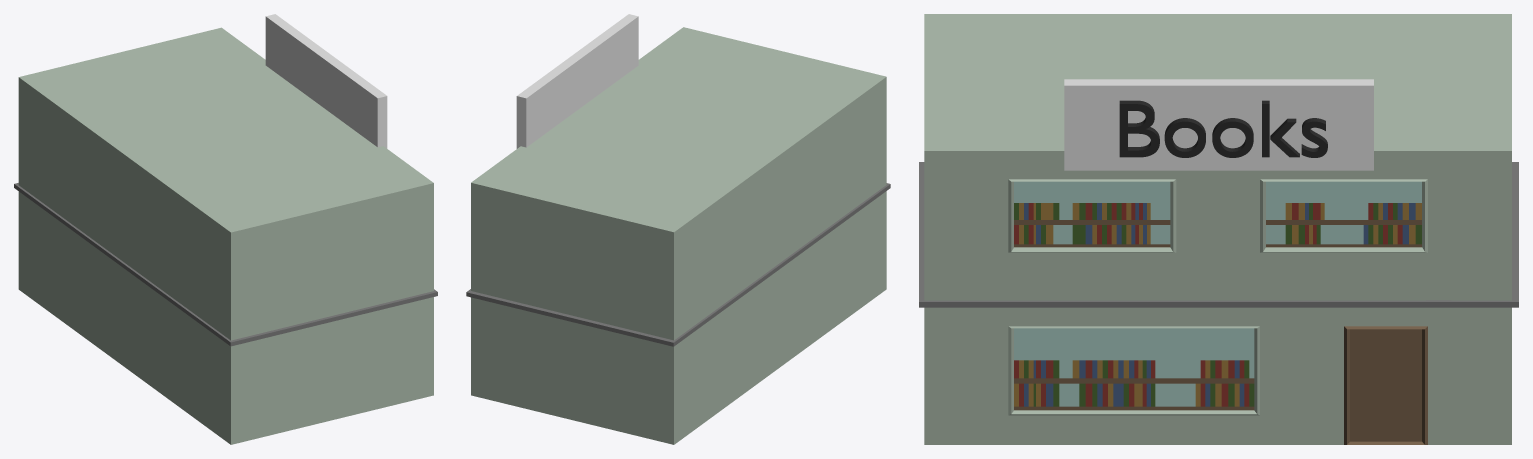
The model's file is Book_Store.fbx.
3 renders of one model, left to right at view 1: azimuth 30°, elevation 25°; view 2: azimuth 150°, elevation 25°; view 3: azimuth 270°, elevation 25°, orthographic. The views are drawn at different scales.
Visible parts, largest first — view 1: Cube.001; view 2: Cube.001; view 3: Cube.001, Text.
Boxes of the visible parts, x1,y1,x2,y2 form: Cube.001: (14, 14, 437, 444); Cube.001: (466, 14, 890, 444); Cube.001: (919, 14, 1518, 444); Text: (1119, 100, 1327, 157).
Size of the model in its own units: 731 by 852 by 1279.
